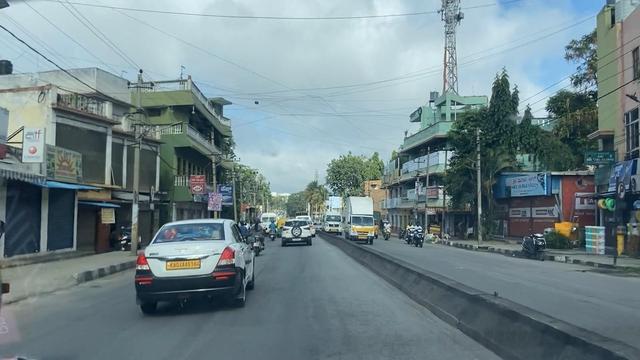LMV: (138, 218, 254, 311), (281, 220, 312, 247)
